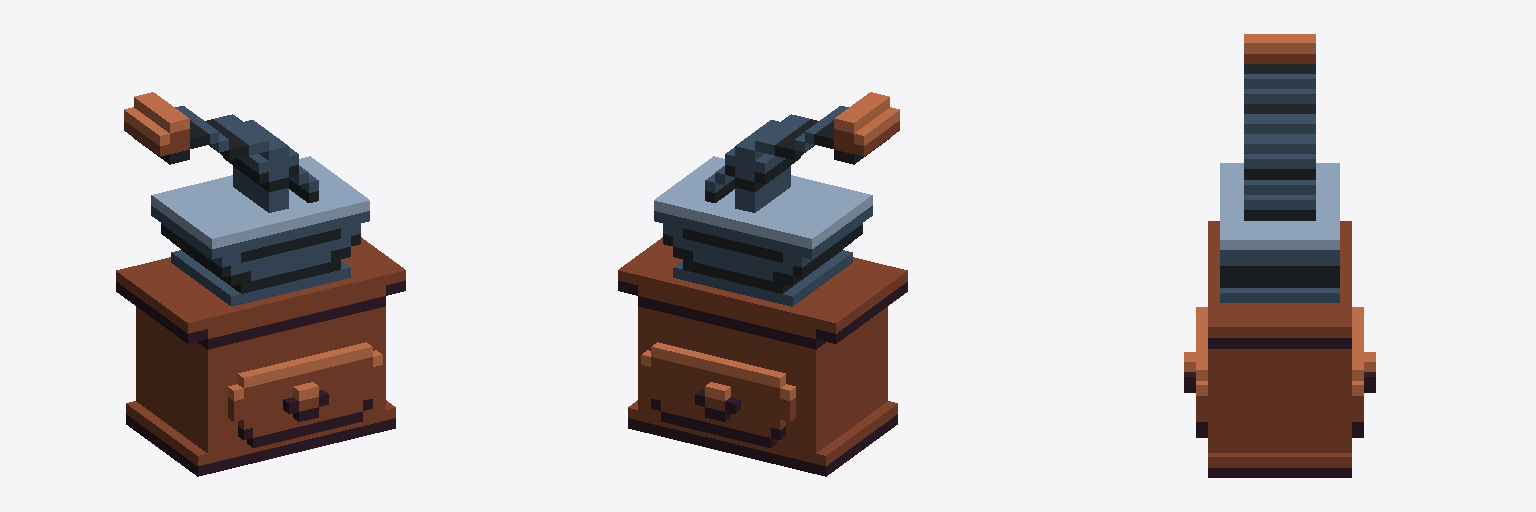
Rendered from CoffeeGrinder.obj.
3 views of the same model, side by side, from view 1: azimuth 30°, elevation 25°; view 2: azimuth 150°, elevation 25°; view 3: azimuth 270°, elevation 25° (orthographic).
Size of the model in its own units: 23 by 33 by 16.8.